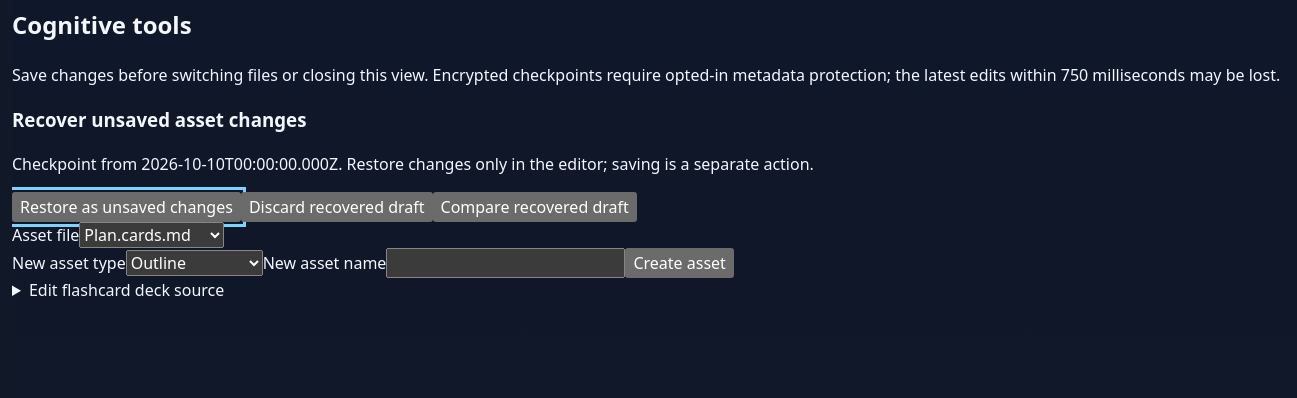
Scenario: vault-backed cognitive workspace › discards recovery by revision without writing a source file
Expected: the heading "Recover unsaved asset changes" is shown, [12,106,306,132]
Click the button "Discard recovered draft" at (337, 207), box [241,192,432,222]
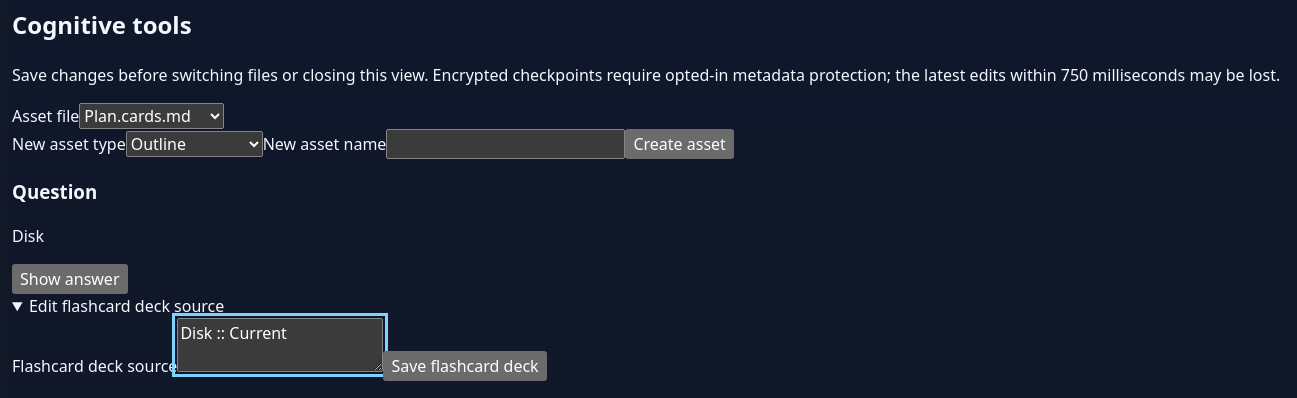
Result: the heading "Recover unsaved asset changes" is gone
